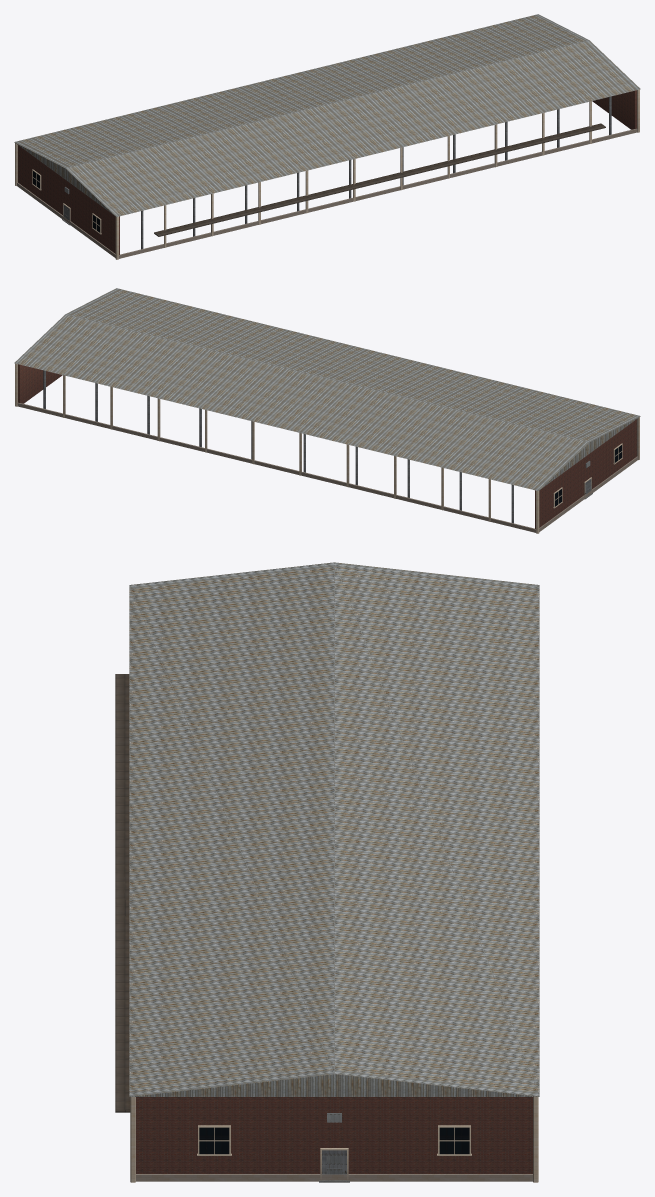
File: market-hall-a_lod0.gltf
3 renders of one model, top to bottom at view 1: azimuth 30°, elevation 25°; view 2: azimuth 150°, elevation 25°; view 3: azimuth 270°, elevation 25°, orthographic. The views are drawn at different scales.
Parts seen in each view (by area): view 1: market-hall-a_roof, market-hall-a__v4_stone_detail, market-hall-a_endwalls, market-hall-a__v4_metal_detail, market-hall-a_columns; view 2: market-hall-a_roof, market-hall-a__v4_stone_detail, market-hall-a_endwalls, market-hall-a_columns; view 3: market-hall-a_roof, market-hall-a_endwalls, market-hall-a__v4_metal_detail, market-hall-a__v4_stone_detail, market-hall-a_fen_07-glass-curtain-blue_5_t, market-hall-a_fen_04-limestone_0.
Boxes of the visible parts, x1=… form: market-hall-a_roof: x1=14, y1=14, x2=640, y2=216; market-hall-a__v4_stone_detail: x1=15, y1=89, x2=639, y2=259; market-hall-a_endwalls: x1=18, y1=90, x2=636, y2=254; market-hall-a__v4_metal_detail: x1=154, y1=123, x2=605, y2=236; market-hall-a_columns: x1=141, y1=96, x2=611, y2=249; market-hall-a_roof: x1=14, y1=288, x2=640, y2=490; market-hall-a__v4_stone_detail: x1=15, y1=363, x2=639, y2=533; market-hall-a_endwalls: x1=18, y1=364, x2=636, y2=528; market-hall-a_columns: x1=43, y1=370, x2=513, y2=523; market-hall-a_roof: x1=129, y1=562, x2=539, y2=1096; market-hall-a_endwalls: x1=136, y1=1097, x2=532, y2=1173; market-hall-a__v4_metal_detail: x1=115, y1=674, x2=130, y2=1112; market-hall-a__v4_stone_detail: x1=130, y1=1097, x2=538, y2=1182; market-hall-a_fen_07-glass-curtain-blue_5_t: x1=199, y1=1127, x2=469, y2=1154; market-hall-a_fen_04-limestone_0: x1=197, y1=1125, x2=471, y2=1180.
Size of the model in its own units: 121 by 12.02 by 42.4.
